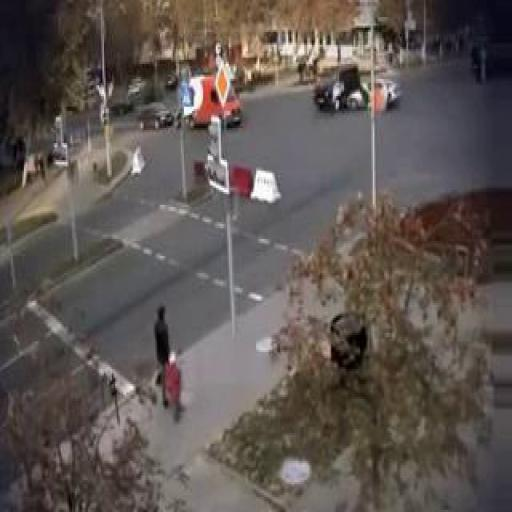Car: (179, 80, 244, 128), (315, 60, 362, 111), (349, 79, 404, 115), (140, 104, 176, 132)
Minor Accident: (312, 56, 408, 122)
